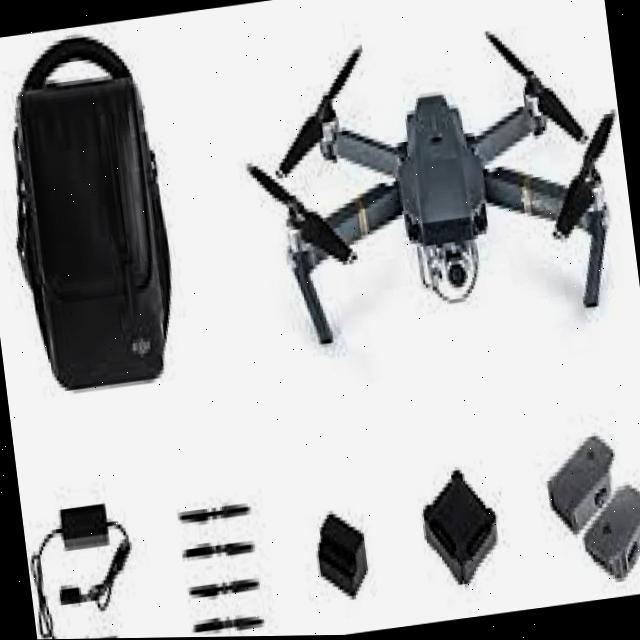drone: (237, 19, 640, 385)
